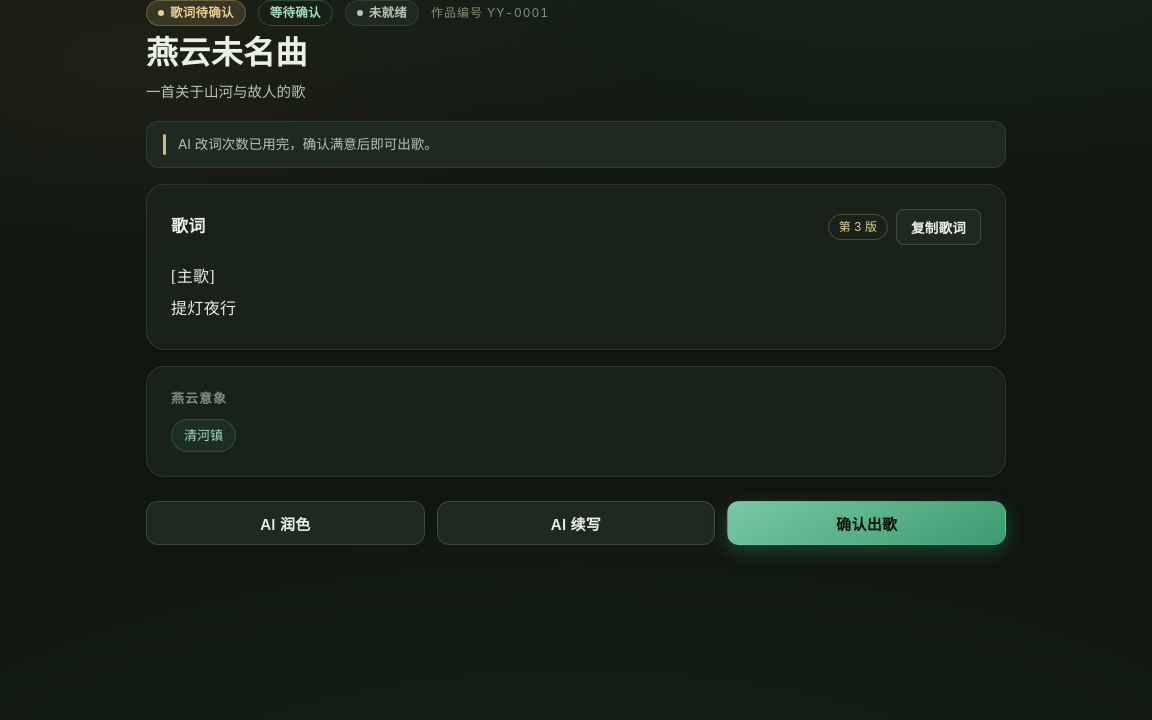
Scenario: ConfirmView › keeps quota conflict visible inside the edit modal
Click the button "AI 润色": [285, 523] box [146,501,425,545]
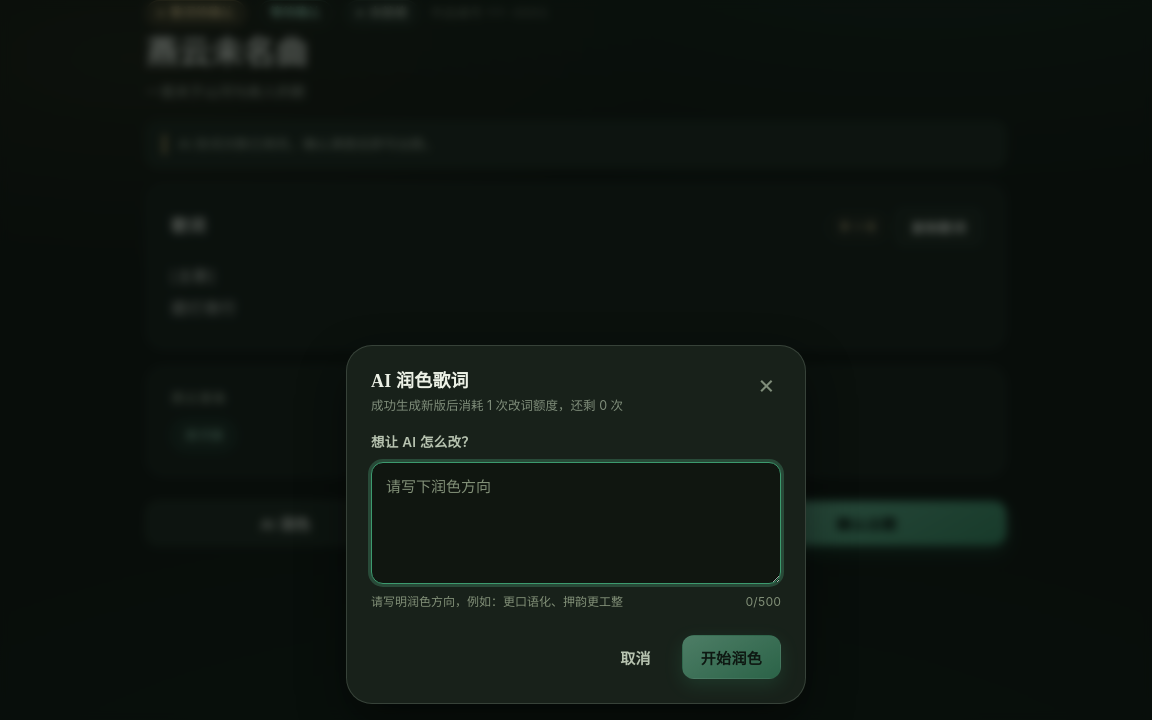
In the text box labelled "想让 AI 怎么改？ 请写明润色方向，例如：更口语化、押韵更工整 0/500": [576, 523] box [371,462,781,584], type "更热血一点"
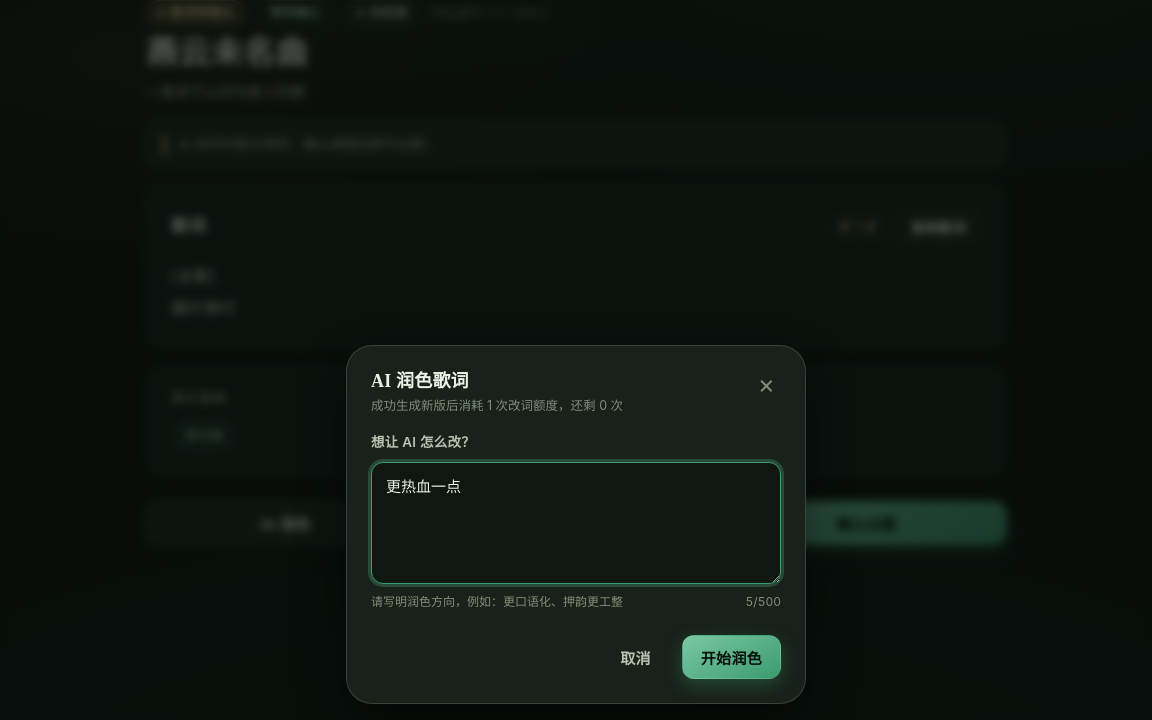
Click the button "开始润色": [731, 657] box [682,635,781,679]
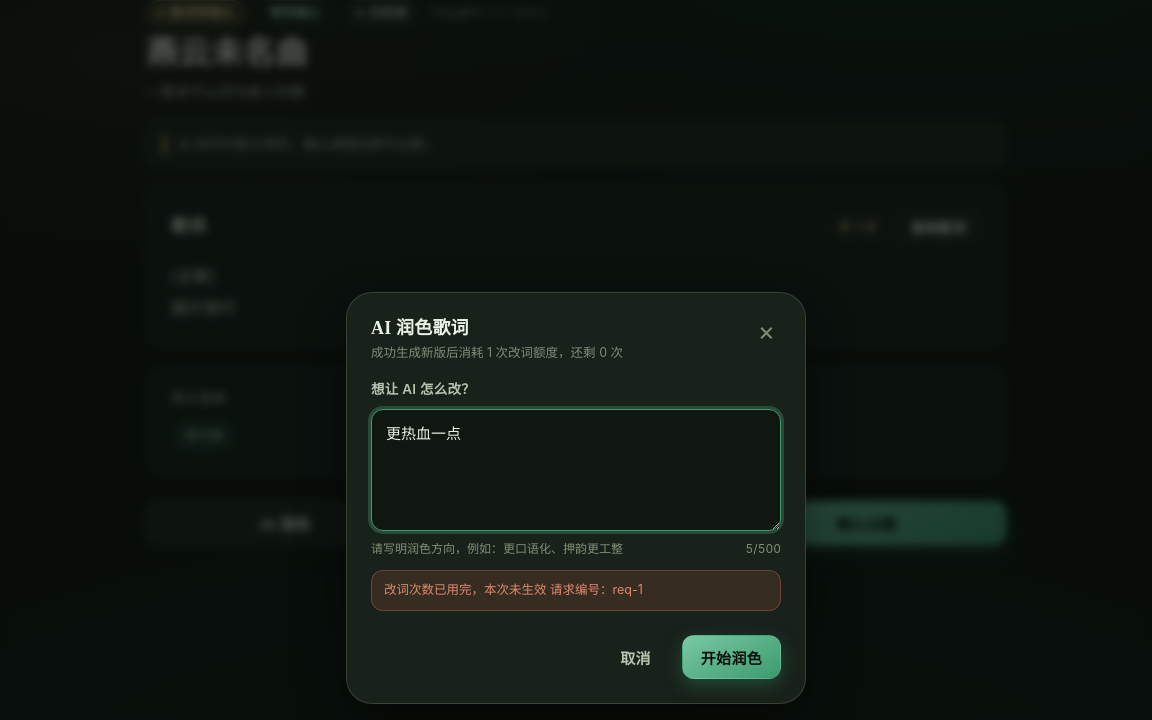
Expected: the message "改词次数已用完，本次未生效 请求编号：req-1" is shown, [371,570,781,611]
